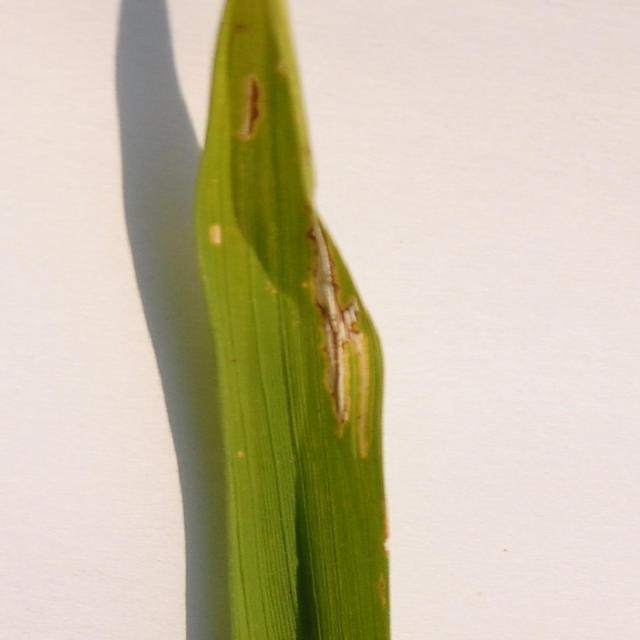leaf blight: (285, 220, 375, 467), (223, 14, 277, 146)
